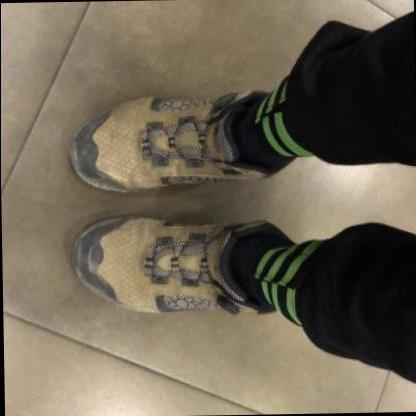safety-shoe: (66, 80, 301, 210), (80, 211, 294, 338)
